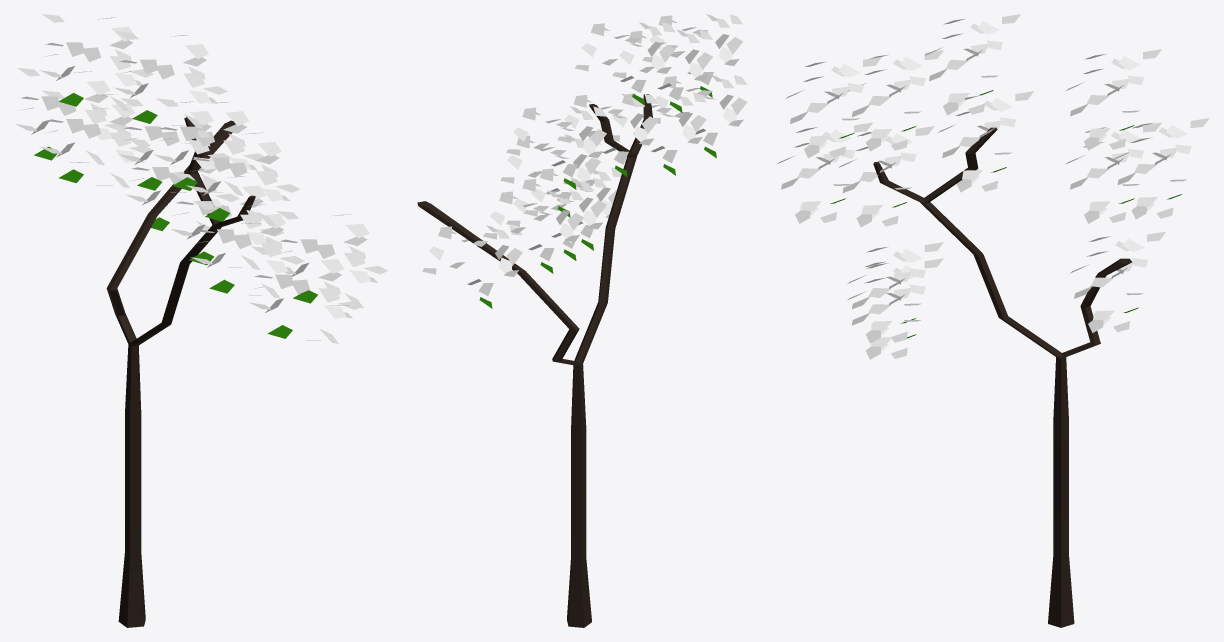
The model's file is TREE.fbx.
The picture shows the model from 3 angles, left to right: view 1: azimuth 30°, elevation 25°; view 2: azimuth 150°, elevation 25°; view 3: azimuth 270°, elevation 25°; orthographic projection. The views are drawn at different scales.
Visible parts, largest first — view 1: Cylinder, Cylinder_1, Cylinder_2; view 2: Cylinder, Cylinder_1, Cylinder_2; view 3: Cylinder, Cylinder_1, Cylinder_2.
Part boxes in pixels (x1,y1,x2,y2): Cylinder: (106,120,235,627); Cylinder_1: (128,195,255,346); Cylinder_2: (184,117,220,226); Cylinder: (417,201,591,627); Cylinder_1: (574,94,652,365); Cylinder_2: (589,104,636,157); Cylinder: (1048,258,1131,627); Cylinder_1: (873,162,1062,358); Cylinder_2: (924,127,997,203).
Size of the model in its own units: 299 by 775 by 517.
